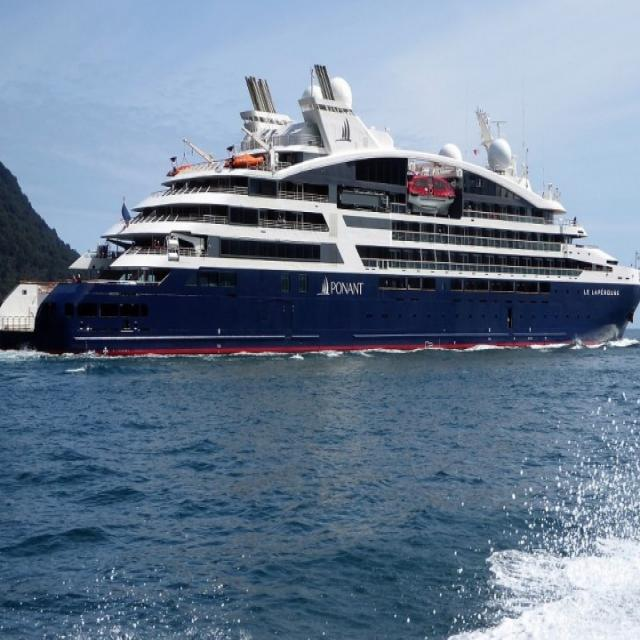cruises: (1, 56, 640, 367)
